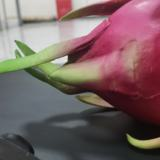pitaya: (12, 1, 160, 148)
